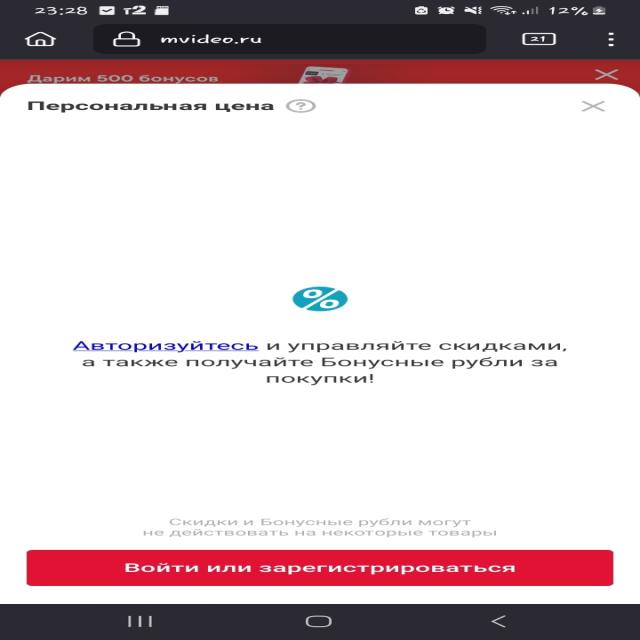button: (27, 549, 613, 587), (574, 99, 616, 115), (591, 67, 622, 83)
site: (0, 83, 640, 604), (0, 58, 640, 84)
